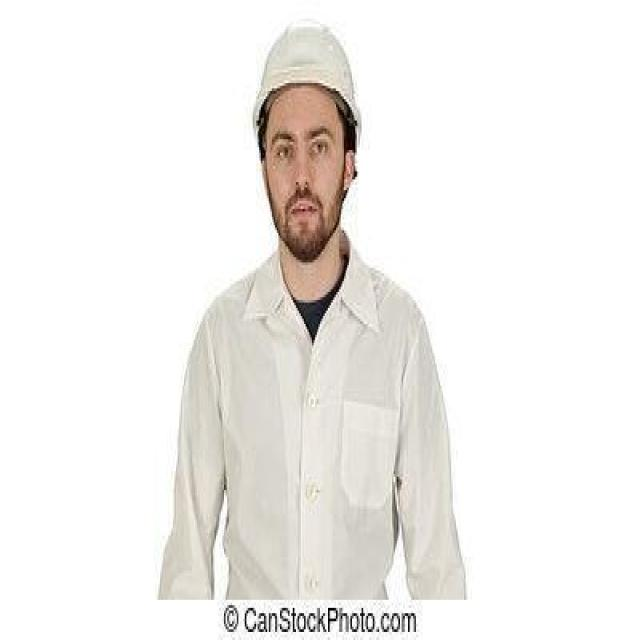helmet: (250, 19, 364, 123)
